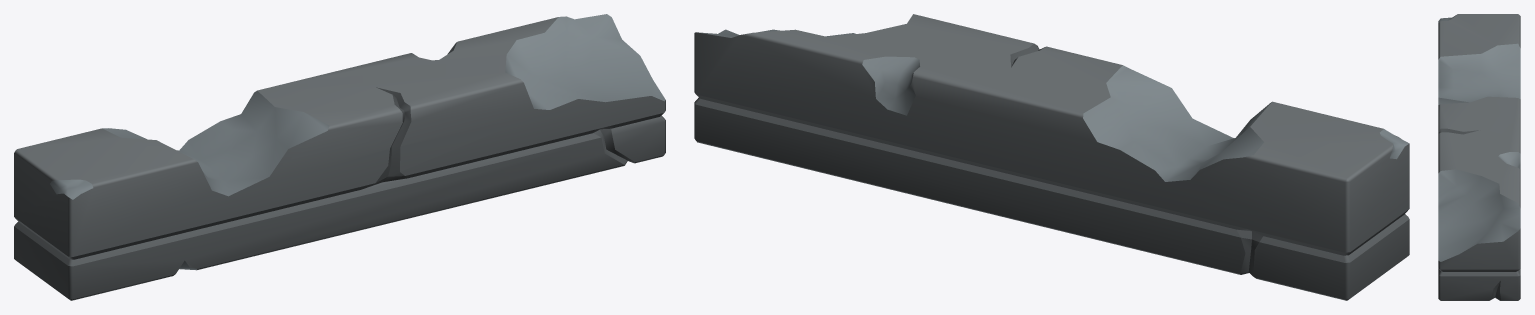
Rendered from ruins_003.glb.
3 renders of one model, left to right at view 1: azimuth 30°, elevation 25°; view 2: azimuth 150°, elevation 25°; view 3: azimuth 270°, elevation 25°, orthographic. The views are drawn at different scales.
Visible parts, largest first — view 1: ruins_003; view 2: ruins_003; view 3: ruins_003.
Part boxes in pixels (<box>): ruins_003: <box>14,14,665,300</box>; ruins_003: <box>694,14,1409,300</box>; ruins_003: <box>1438,14,1520,300</box>.
Size of the model in its own units: 27.29 by 4.89 by 4.55.
1 material, 1 textured.
